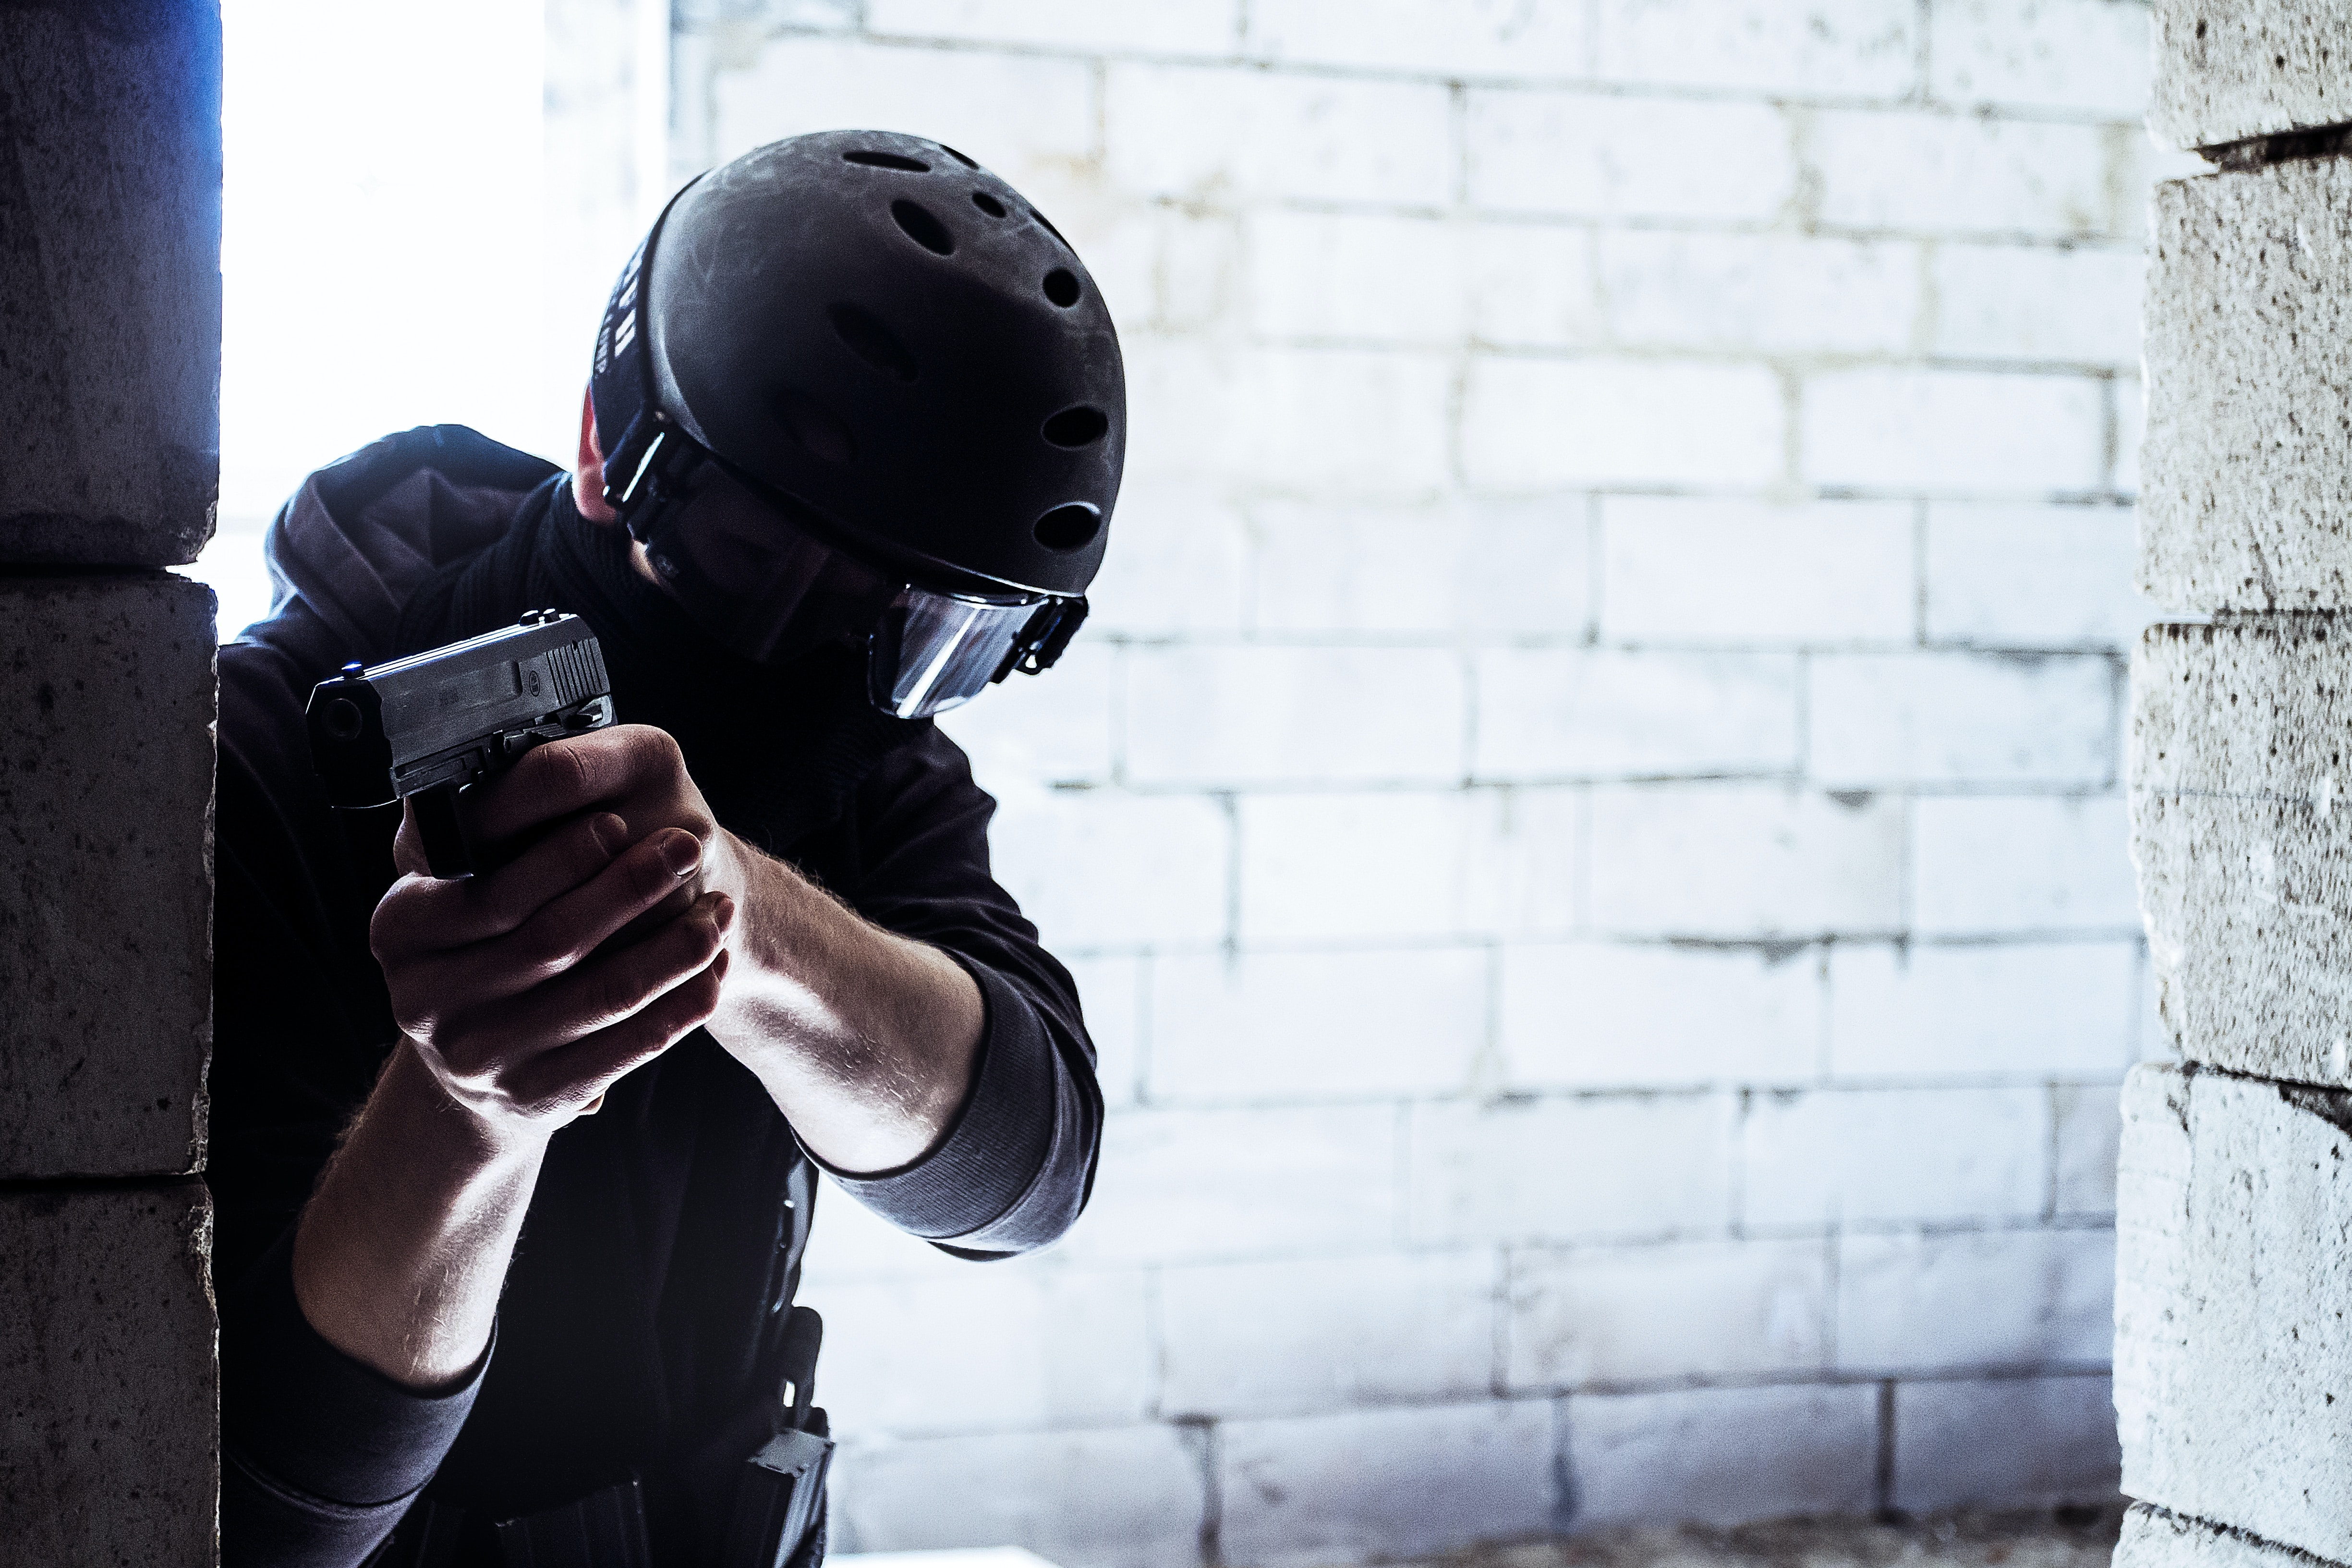gun: (291, 597, 628, 897)
person: (203, 113, 1138, 1568)
